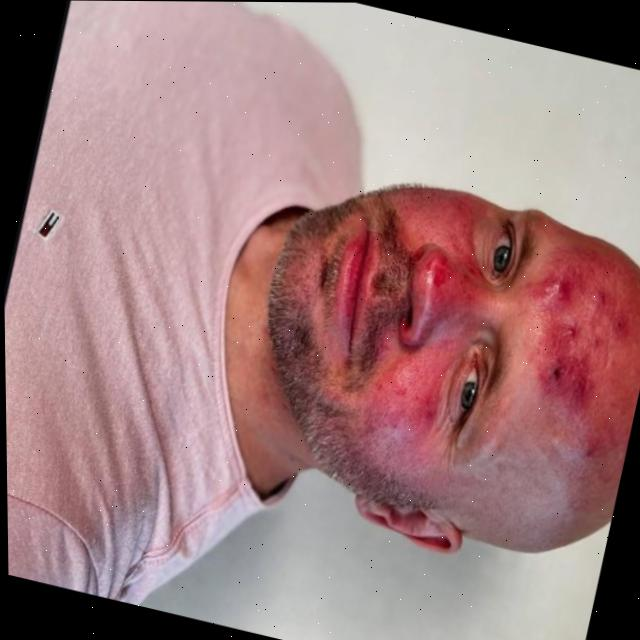Rosacea: (495, 239, 640, 471), (339, 332, 468, 490), (380, 174, 494, 276), (410, 255, 484, 324)
